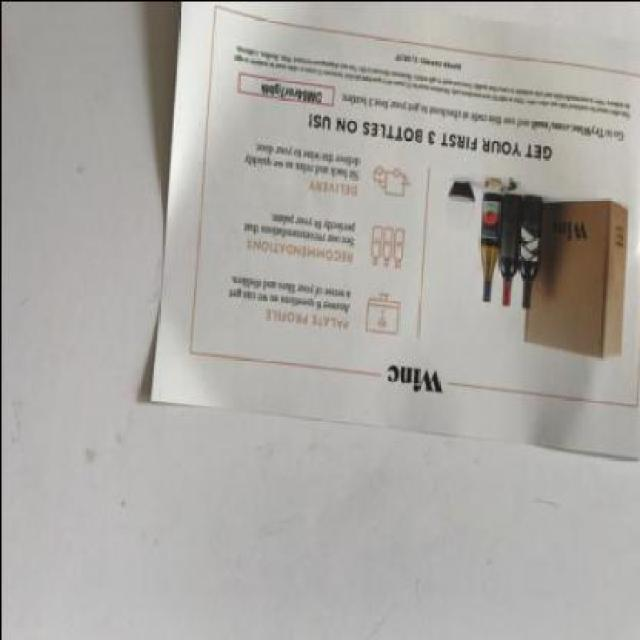PAPER: (150, 0, 638, 463)
